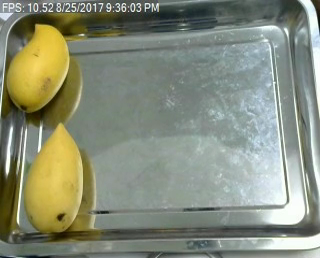Mango: (20, 121, 94, 235), (6, 16, 75, 114)
